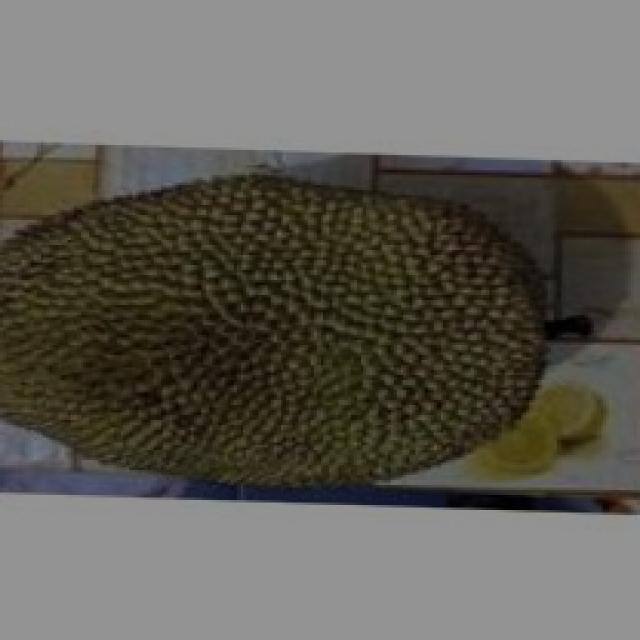Fruit: (184, 157, 590, 495)
